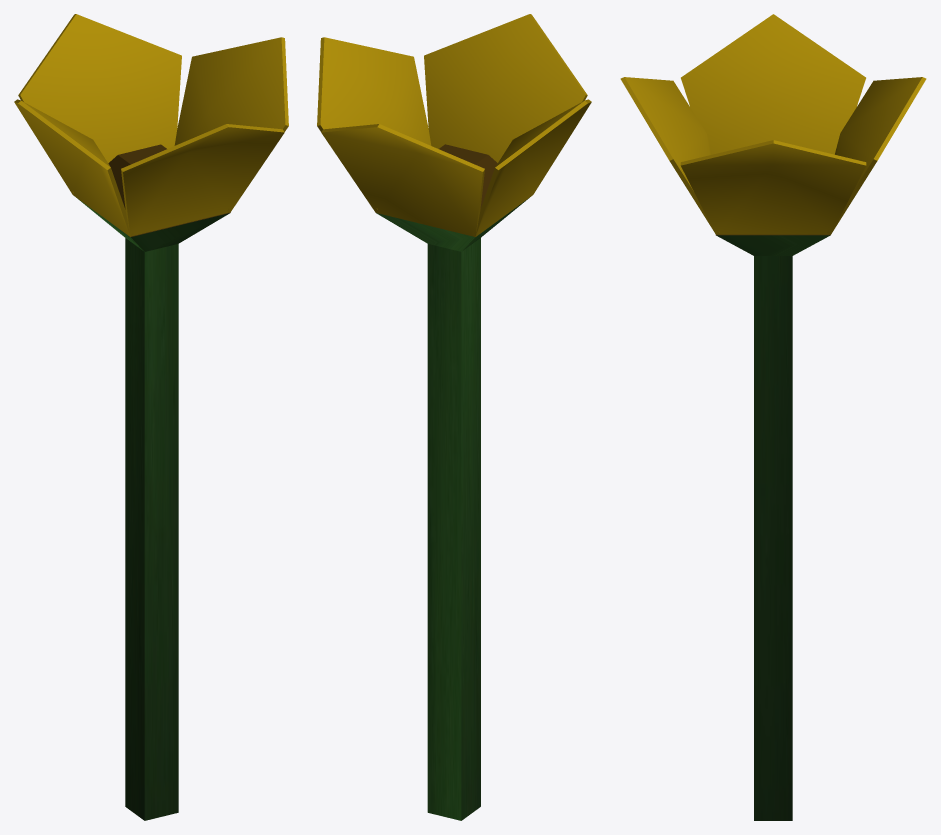
The model's file is Flower_v1.fbx.
3 views of the same model, side by side, from view 1: azimuth 30°, elevation 25°; view 2: azimuth 150°, elevation 25°; view 3: azimuth 270°, elevation 25° (orthographic).
Parts seen in each view (by area): view 1: Flower_v1; view 2: Flower_v1; view 3: Flower_v1.
Part boxes in pixels (x1,y1,x2,y2): Flower_v1: (14,14,288,820); Flower_v1: (317,14,591,820); Flower_v1: (620,14,926,820).
Bounding box in the file's own units: 0.2957 × 0.7838 × 0.2957.
